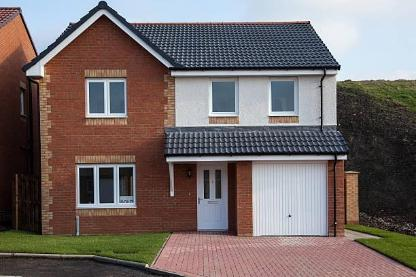door: (194, 161, 234, 236)
